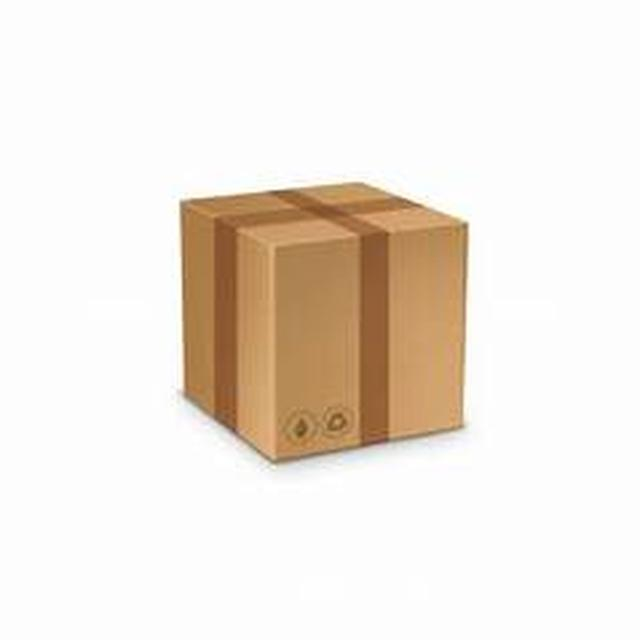box: (145, 149, 507, 516)
